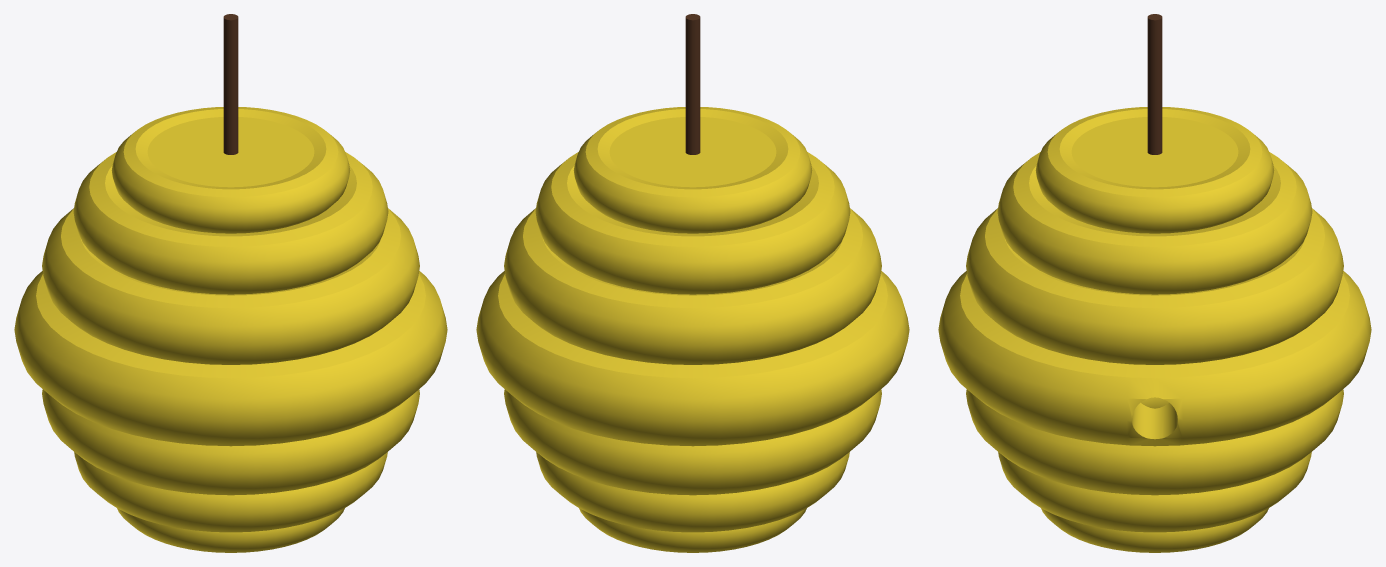
The model's file is arkovan.fbx.
3 views of the same model, side by side, from view 1: azimuth 30°, elevation 25°; view 2: azimuth 150°, elevation 25°; view 3: azimuth 270°, elevation 25° (orthographic).
Parts seen in each view (by area): view 1: Torus.006, Cylinder; view 2: Torus.006, Cylinder; view 3: Torus.006, Cylinder.
Boxes of the visible parts, <box> form: Torus.006: <box>14,107,447,552</box>; Cylinder: <box>223,14,238,154</box>; Torus.006: <box>476,107,909,552</box>; Cylinder: <box>685,14,700,154</box>; Torus.006: <box>938,107,1371,552</box>; Cylinder: <box>1147,14,1162,154</box>.
Size of the model in its own units: 209 by 263 by 209.
